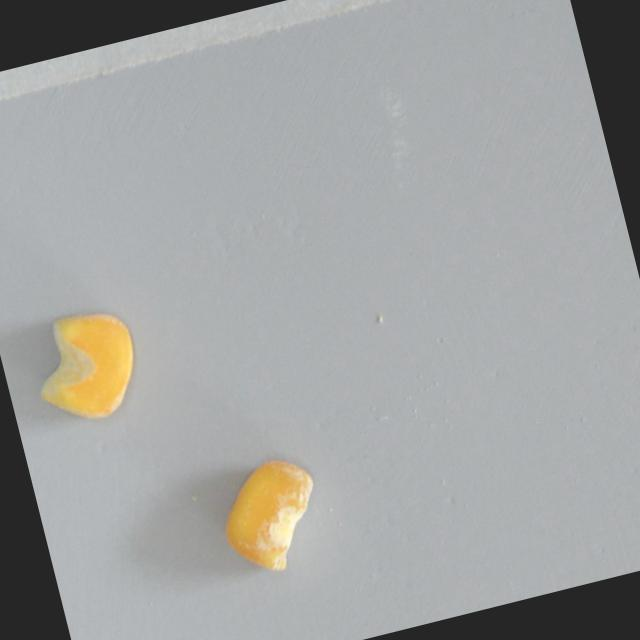no_canjicado: (19, 299, 148, 434)
no_desgerminado: (205, 449, 333, 584)
